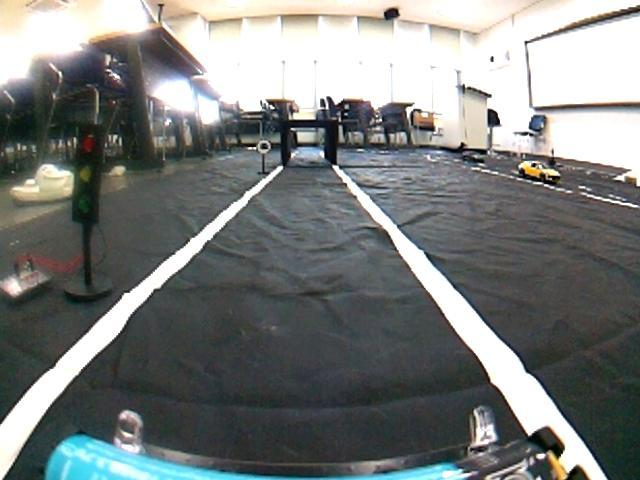green_light: (60, 123, 114, 226)
straight: (4, 211, 640, 479)
